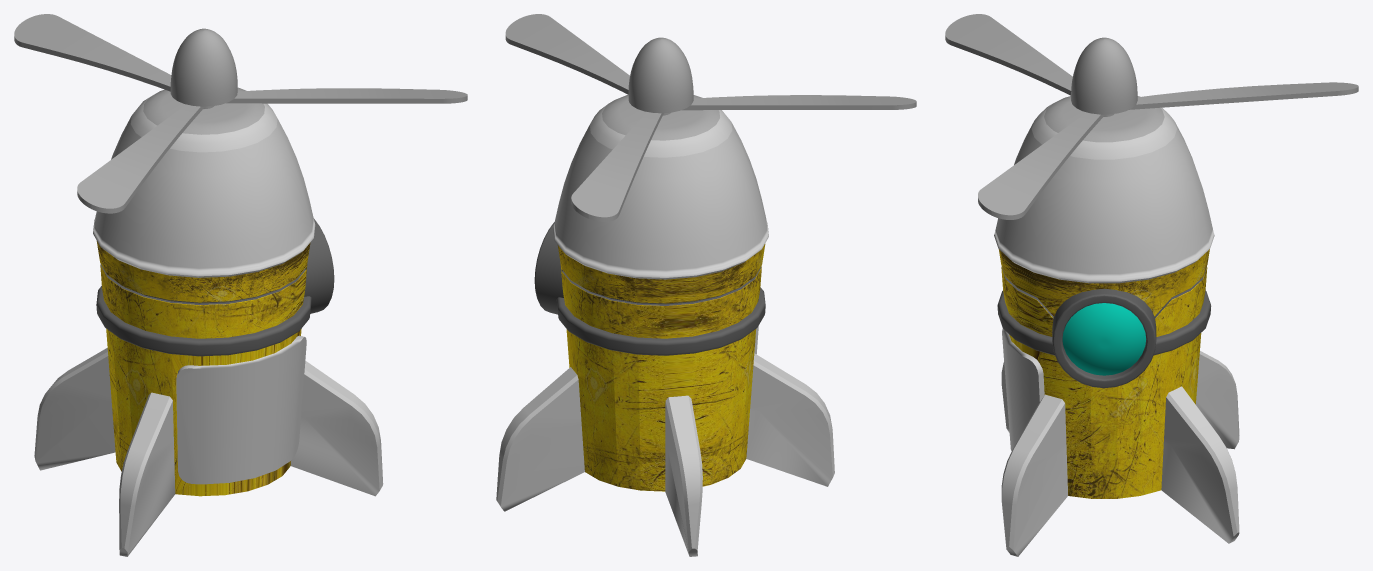
Rendered from spider_spawner.fbx.
3 views of the same model, side by side, from view 1: azimuth 30°, elevation 25°; view 2: azimuth 150°, elevation 25°; view 3: azimuth 270°, elevation 25° (orthographic). The views are drawn at different scales.
Visible parts, largest first — view 1: spider_rocket, gate, fan, eye; view 2: spider_rocket, fan, eye; view 3: spider_rocket, fan, eye, gate.
Boxes of the visible parts, bbox=[...] form: spider_rocket: bbox=[34, 28, 383, 556]; gate: bbox=[176, 335, 306, 484]; fan: bbox=[14, 14, 467, 213]; eye: bbox=[304, 218, 334, 313]; spider_rocket: bbox=[496, 37, 834, 556]; fan: bbox=[505, 14, 916, 221]; eye: bbox=[534, 222, 563, 314]; spider_rocket: bbox=[994, 37, 1239, 556]; fan: bbox=[945, 14, 1358, 219]; eye: bbox=[1052, 288, 1156, 388]; gate: bbox=[1002, 328, 1044, 450].
Bounding box in the file's own units: 22.89 × 25.22 × 20.72.
